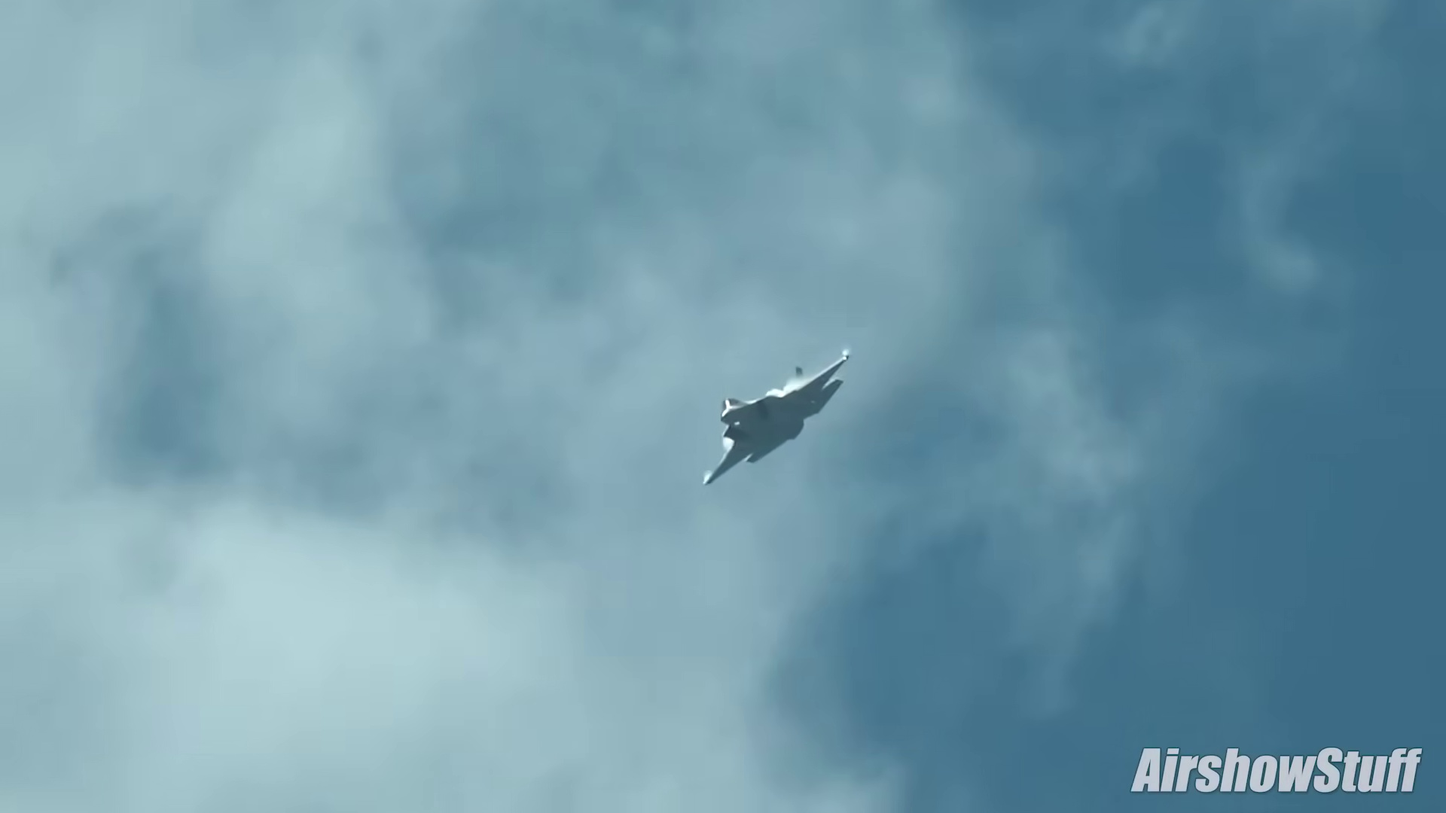F35: (689, 334, 860, 498)
